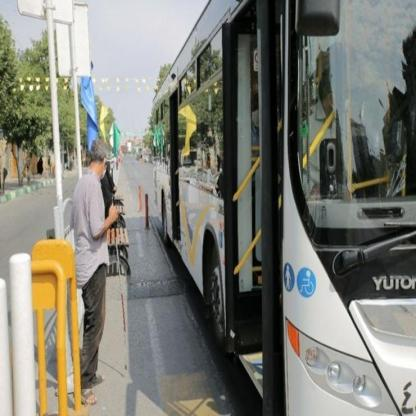Bus: (155, 0, 416, 416)
